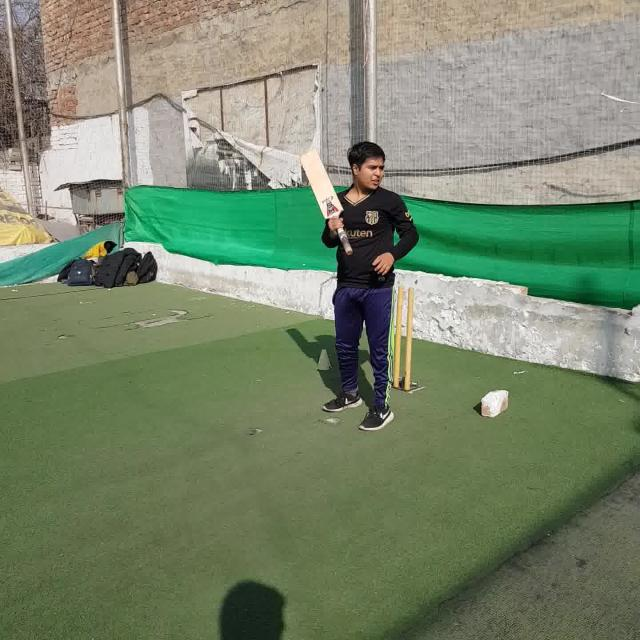bat: (300, 150, 352, 254)
